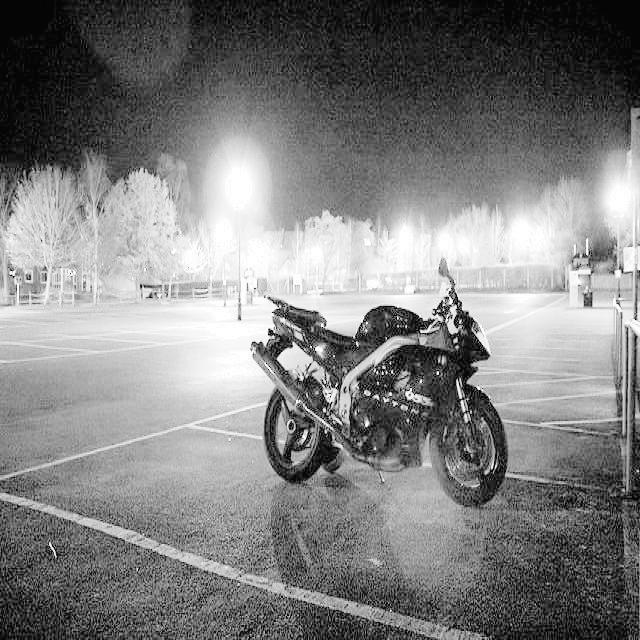Motorcycle: (244, 278, 517, 541)
